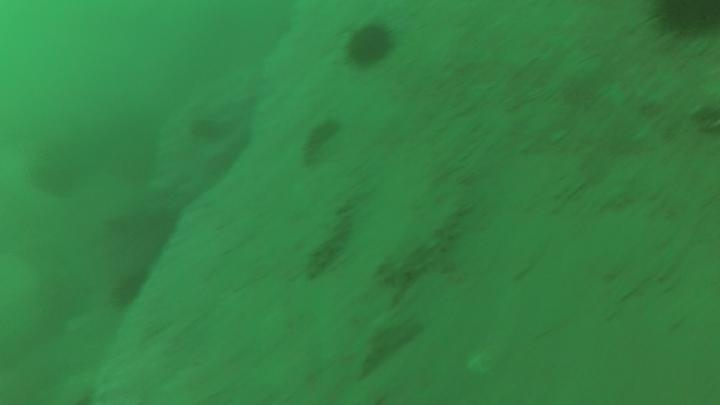echinus: (349, 27, 393, 66)
holothurian: (305, 208, 354, 276)
